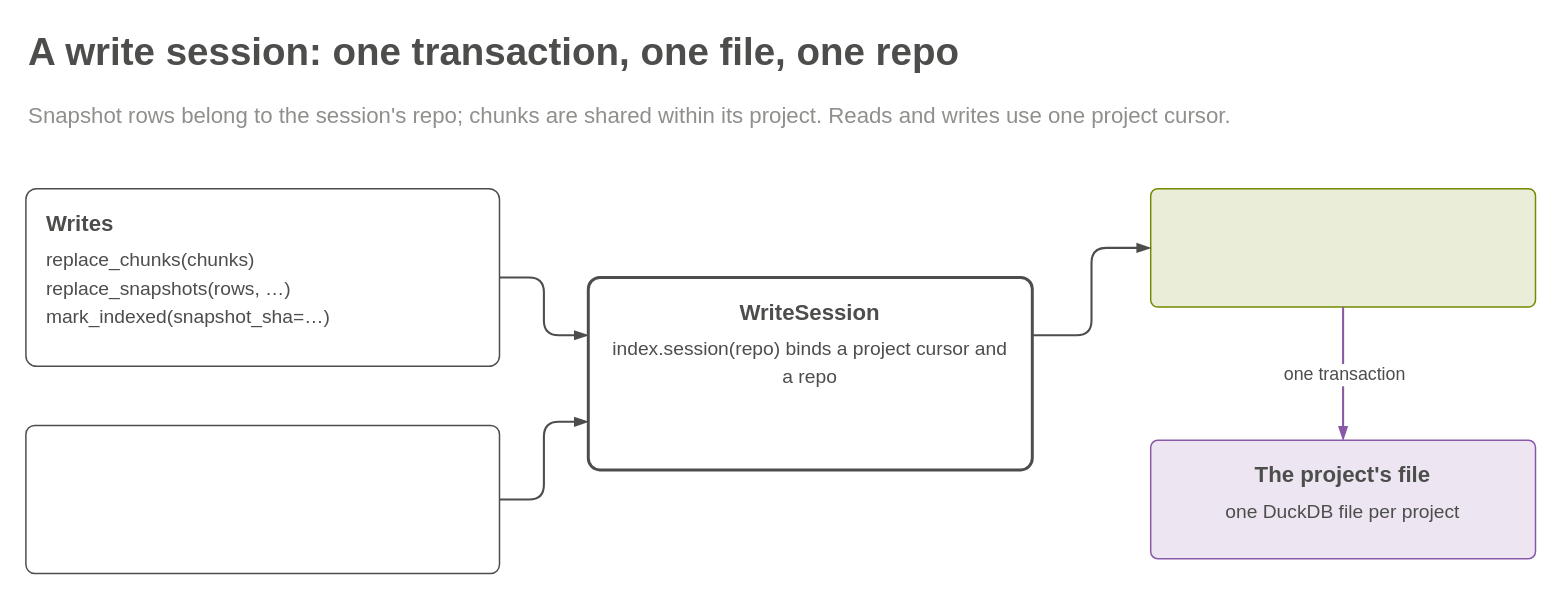
The diagram is 1561 pixels wide and 599 high, and some of its shapes have lost their labels. The shapes that lost their labels are listed below. From the top down, each one's centre as x and y in pixels, then its label:
At [1342,247]: "Its cursor began the transaction".
At [262,499]: "Reads inside the write current_blobs(blobs, serials) snapshot_languages(paths)".
